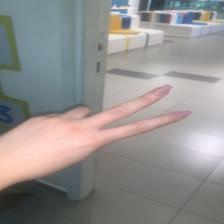two: (16, 84, 195, 159)
